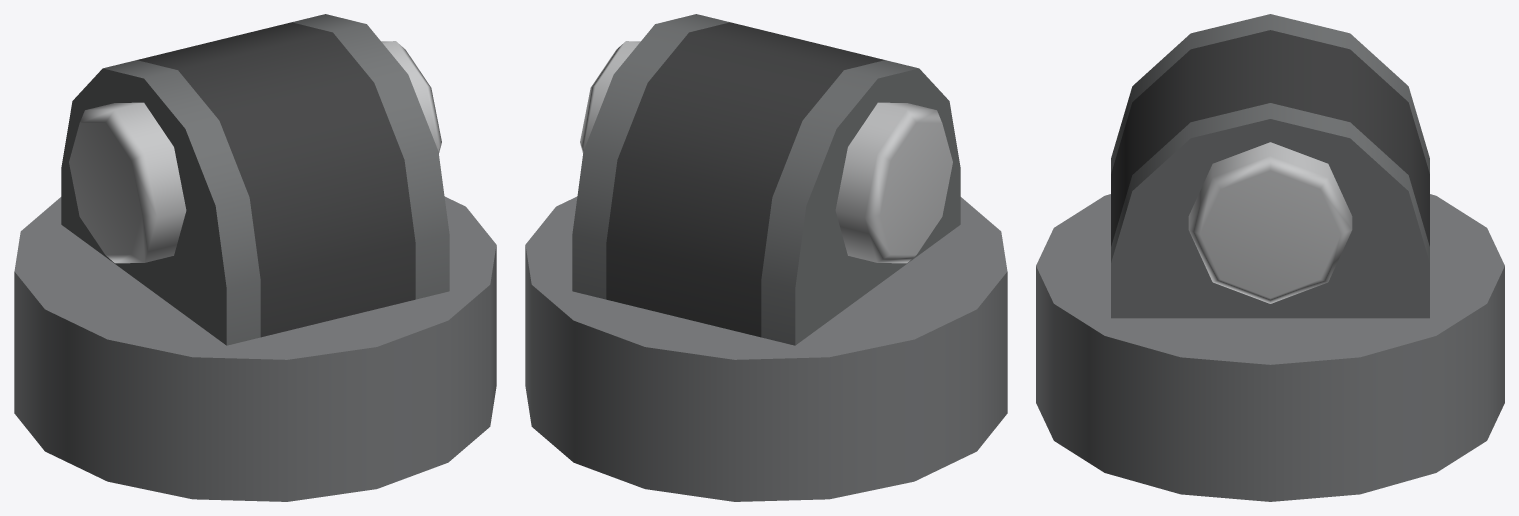
The model's file is Armchair_011_Part_02.fbx.
The picture shows the model from 3 angles, left to right: view 1: azimuth 30°, elevation 25°; view 2: azimuth 150°, elevation 25°; view 3: azimuth 270°, elevation 25°; orthographic projection. The views are drawn at different scales.
Visible parts, largest first — view 1: Armchair_011_Part_02; view 2: Armchair_011_Part_02; view 3: Armchair_011_Part_02.
Part boxes in pixels (left/top/right/bottom): Armchair_011_Part_02: left=14, top=14, right=496, bottom=501; Armchair_011_Part_02: left=525, top=14, right=1007, bottom=501; Armchair_011_Part_02: left=1036, top=14, right=1504, bottom=501.
Bounding box in the file's own units: 22.06 × 22.06 × 19.03.
